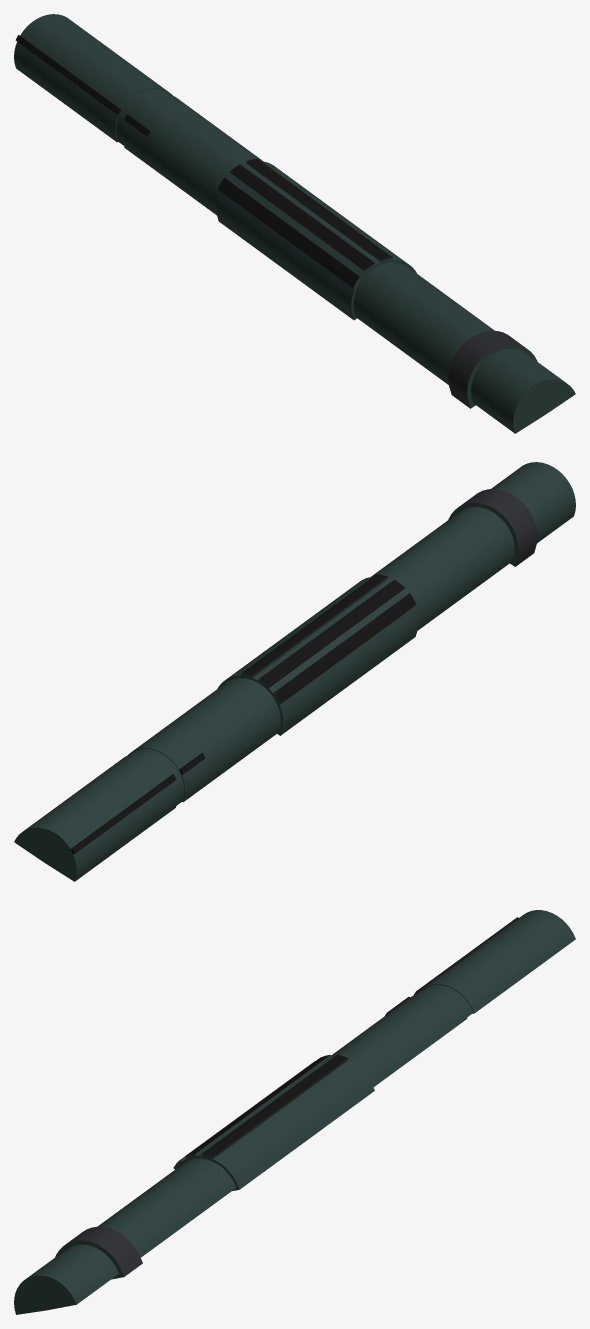
File: Deuxième tuyau.FBX
3 renders of one model, top to bottom at view 1: azimuth 30°, elevation 25°; view 2: azimuth 150°, elevation 25°; view 3: azimuth 330°, elevation 25°, orthographic.
Visible parts, largest first — view 1: 2e gros tuyau sur le mur; view 2: 2e gros tuyau sur le mur; view 3: 2e gros tuyau sur le mur.
Boxes of the visible parts, bbox=[...] form: 2e gros tuyau sur le mur: bbox=[14, 14, 575, 433]; 2e gros tuyau sur le mur: bbox=[14, 462, 575, 881]; 2e gros tuyau sur le mur: bbox=[14, 910, 575, 1314].
Bounding box in the file's own units: 94.25 × 70.19 × 1135.
